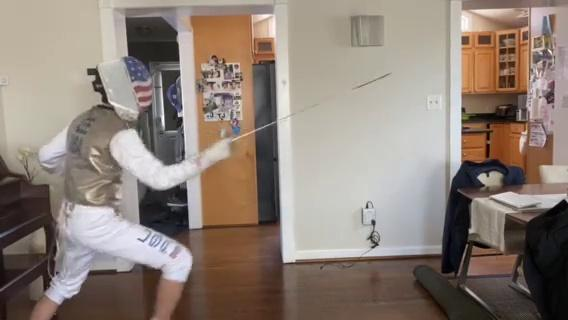blade-guard: (222, 132, 241, 152)
blade-tip: (356, 72, 394, 88)
fencing-blade: (218, 71, 397, 155)
